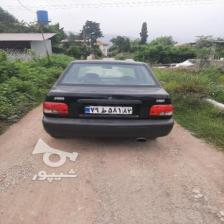plate: (83, 105, 133, 114)
